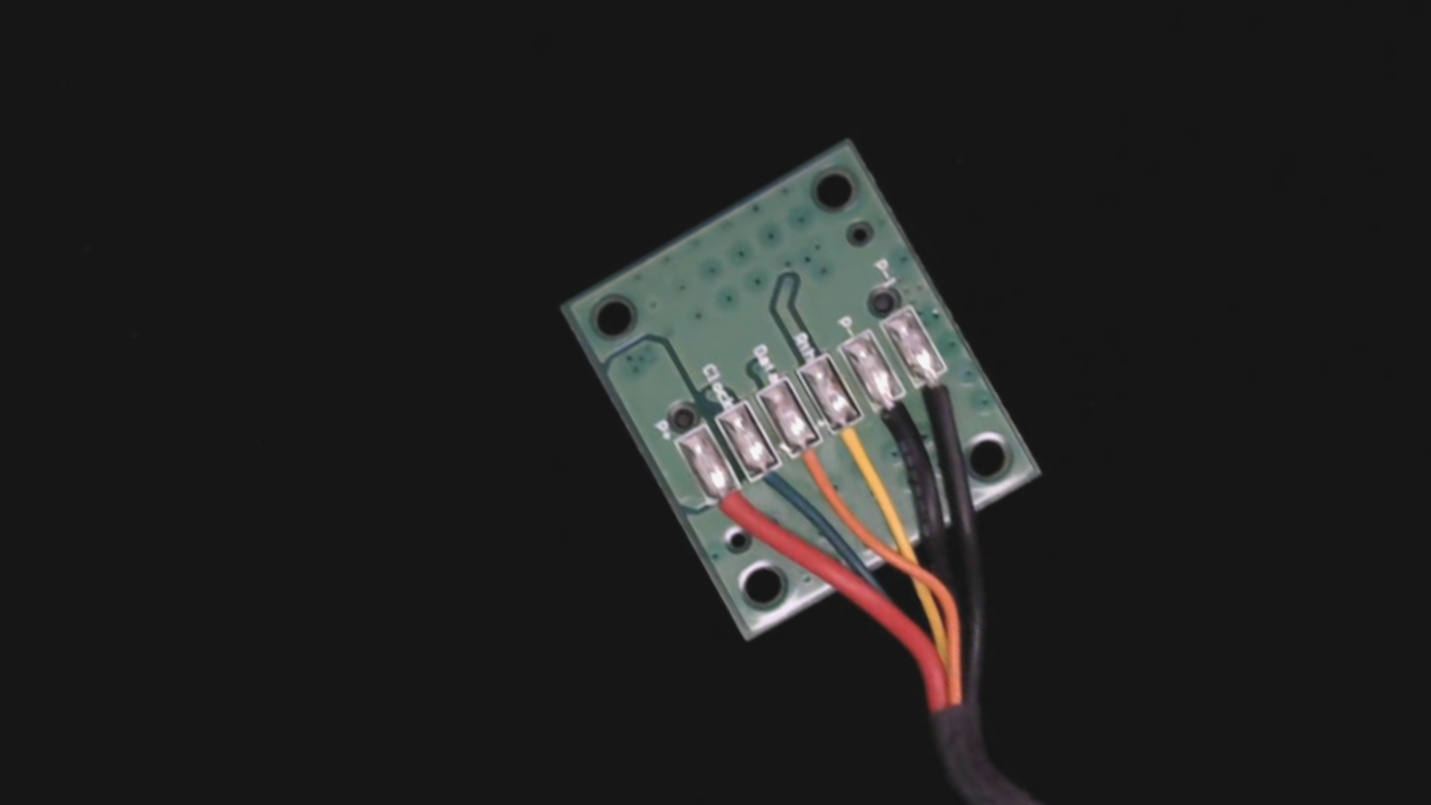Black: (861, 376, 938, 462)
Black1: (901, 350, 984, 441)
Green: (734, 443, 809, 521)
Orange: (777, 421, 856, 508)
Red: (694, 466, 775, 556)
Yellow: (816, 396, 905, 495)
